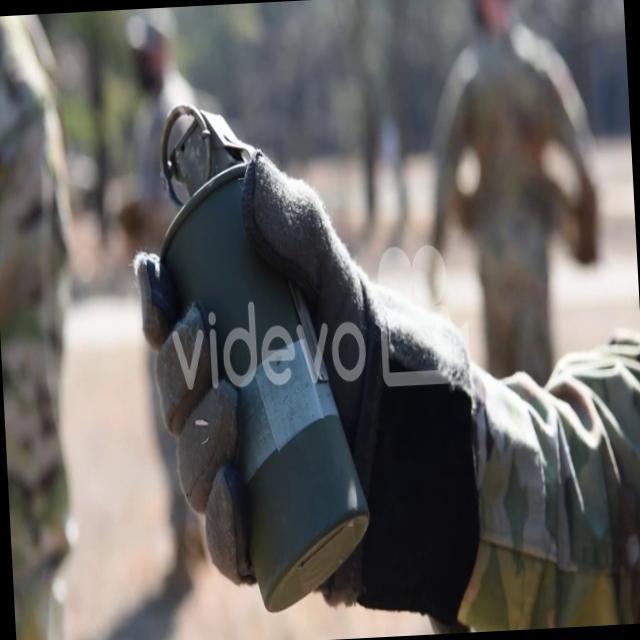grenade: (144, 95, 374, 618)
